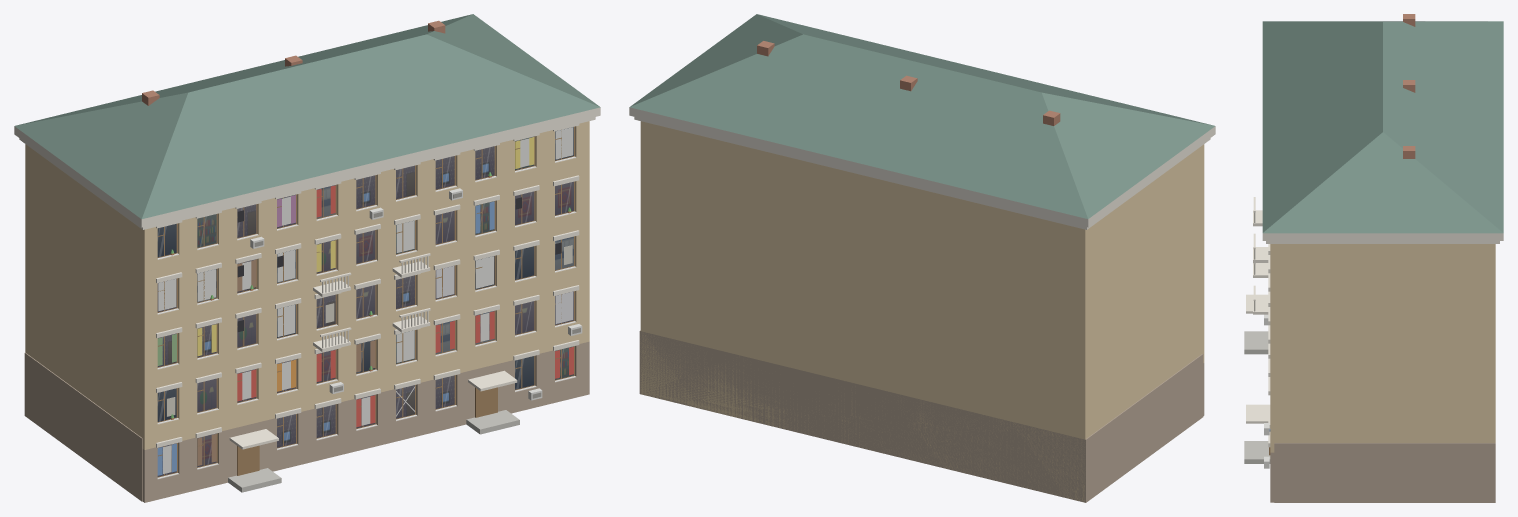
File: stalinka.glb
3 views of the same model, side by side, from view 1: azimuth 30°, elevation 25°; view 2: azimuth 150°, elevation 25°; view 3: azimuth 270°, elevation 25° (orthographic). The views are drawn at different scales.
Parts seen in each view (by area): view 1: stalinka; view 2: stalinka; view 3: stalinka.
Part boxes in pixels (x1=…): stalinka: x1=14, y1=14, x2=600, y2=502; stalinka: x1=629, y1=14, x2=1215, y2=502; stalinka: x1=1244, y1=14, x2=1503, y2=502.
Bounding box in the file's own units: 28.9 × 20.55 × 14.95.
26 materials, 1 textured.
